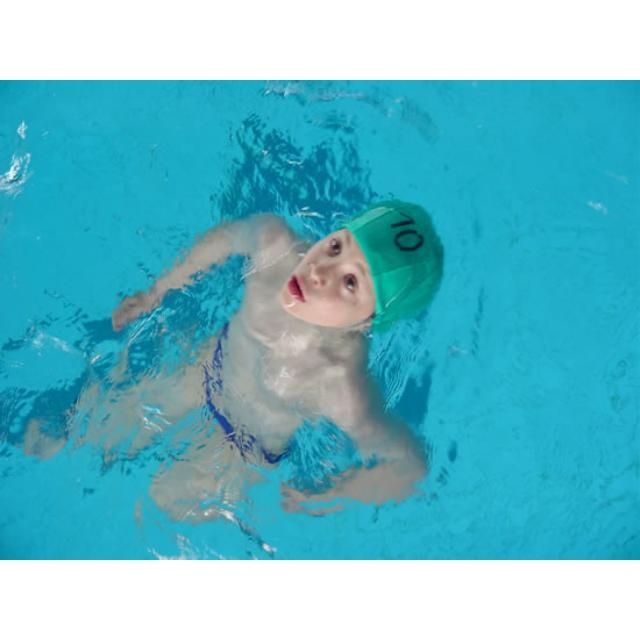human: (32, 193, 454, 533)
